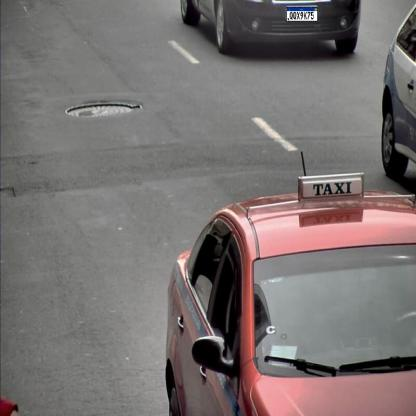PlacaM: (286, 7, 318, 21)
